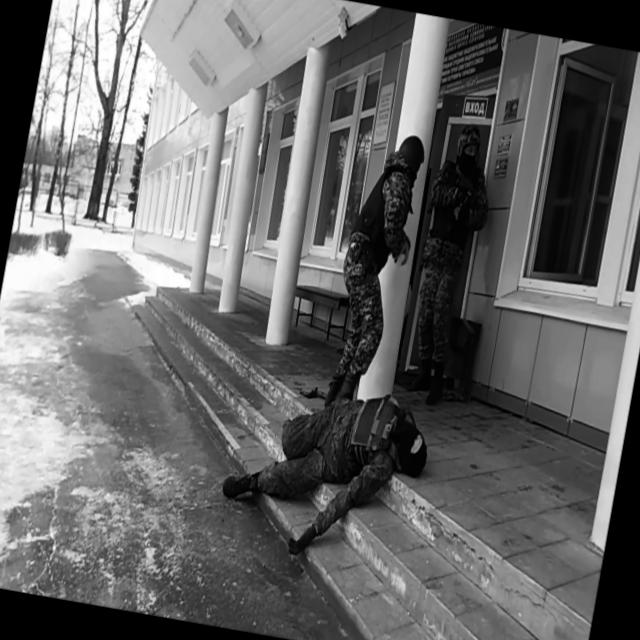gun: (436, 159, 488, 222), (355, 238, 380, 282)
person: (212, 366, 437, 575)
person with a gun: (318, 124, 431, 418), (394, 117, 503, 409)
